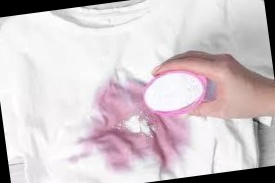ink: (94, 130, 147, 172), (92, 83, 144, 119), (155, 122, 191, 170)
